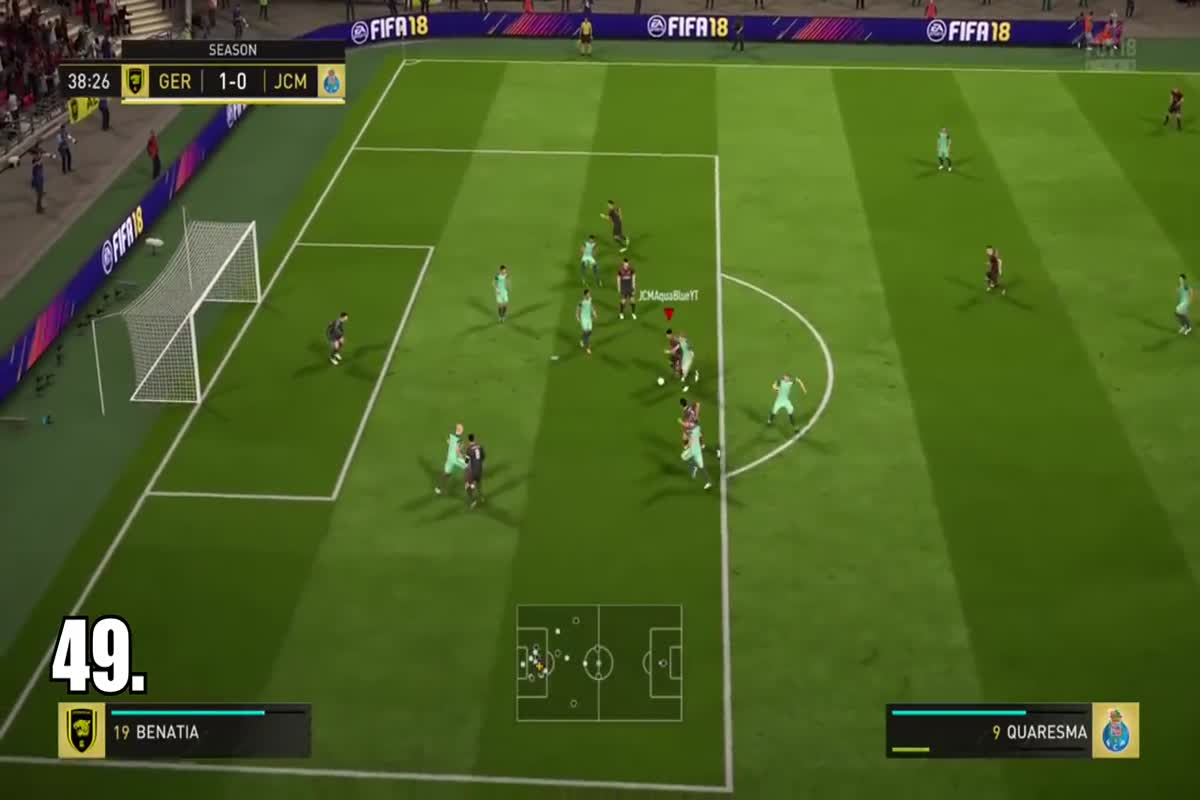ball: (650, 369, 672, 392)
